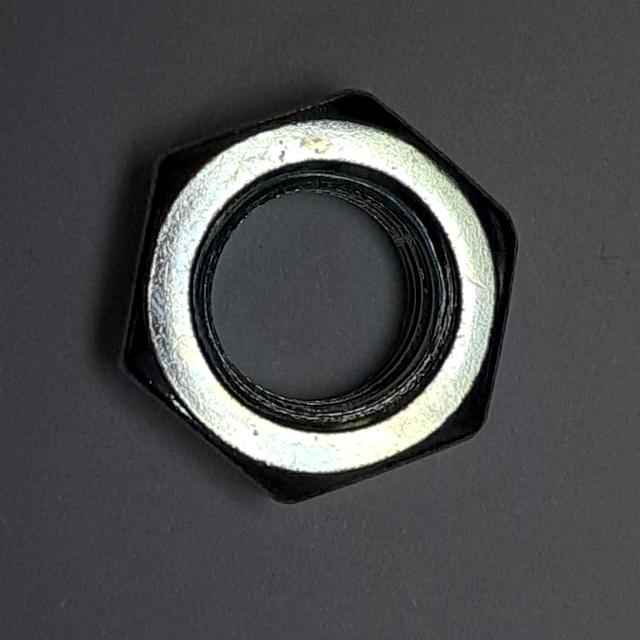Excellent: (100, 79, 533, 517)
